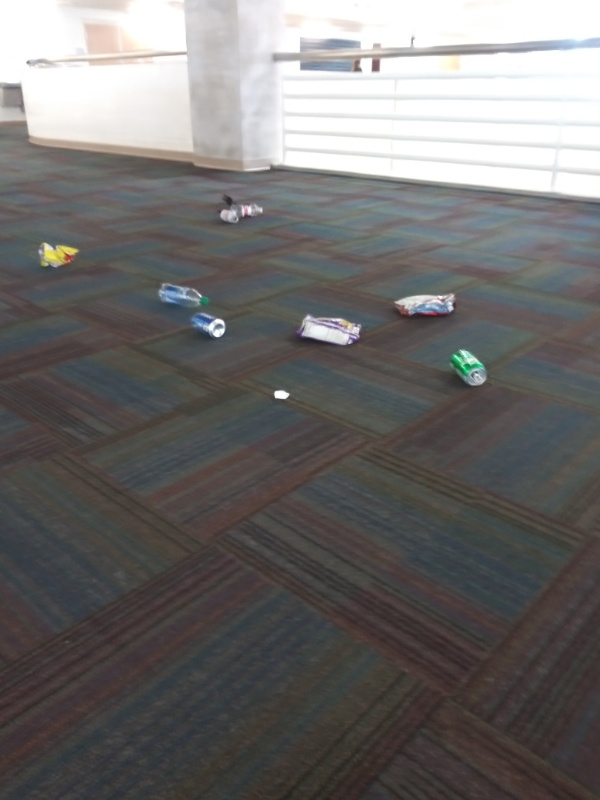bag: (291, 313, 365, 349), (388, 291, 461, 321), (34, 237, 84, 271)
bottle: (149, 278, 216, 312), (229, 200, 268, 220)
can: (446, 344, 489, 391), (185, 307, 229, 344), (212, 206, 244, 225)
